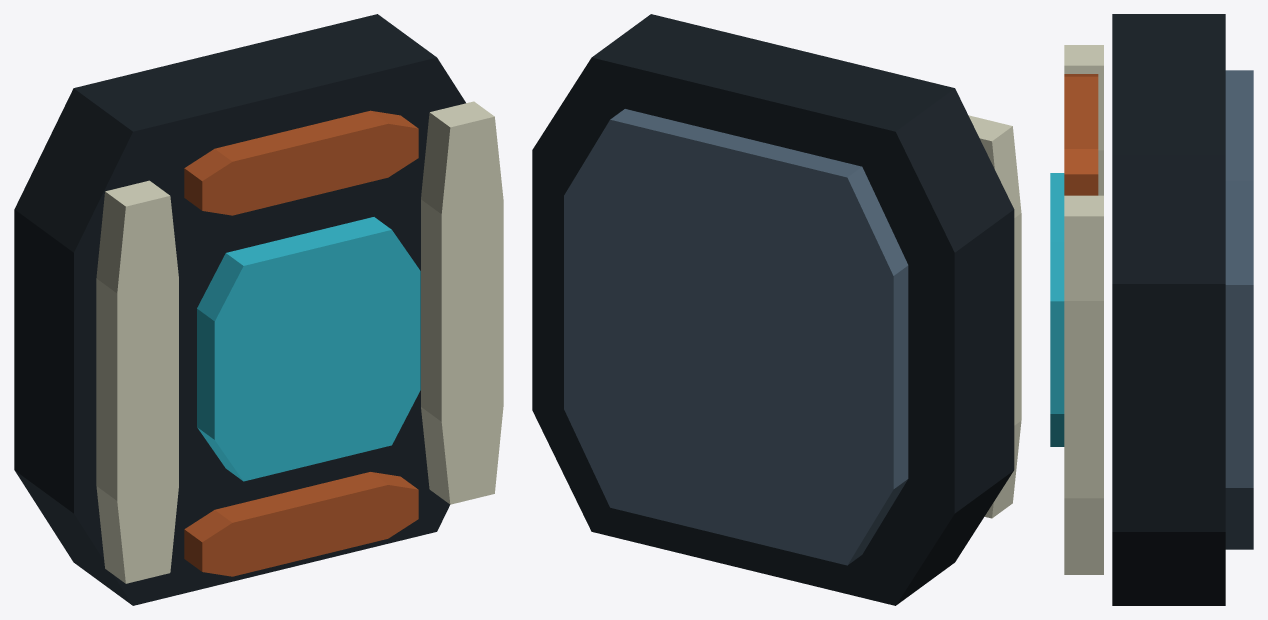
The model's file is BridgeEscapeClamp.obj.
3 views of the same model, side by side, from view 1: azimuth 30°, elevation 25°; view 2: azimuth 150°, elevation 25°; view 3: azimuth 270°, elevation 25° (orthographic). The views are drawn at different scales.
Parts seen in each view (by area): view 1: steel_back, ivory_grips, release_lens, amber_lock; view 2: release_housing, steel_back, ivory_grips; view 3: steel_back, ivory_grips, release_housing, amber_lock, release_lens.
Part boxes in pixels (<box>): steel_back: <box>14,14,465,605</box>; ivory_grips: <box>96,101,503,583</box>; release_lens: <box>197,217,420,481</box>; amber_lock: <box>184,110,418,576</box>; release_housing: <box>564,109,908,565</box>; steel_back: <box>532,14,1014,605</box>; ivory_grips: <box>968,115,1021,518</box>; steel_back: <box>1112,14,1225,605</box>; ivory_grips: <box>1064,45,1103,574</box>; release_housing: <box>1225,70,1253,549</box>; amber_lock: <box>1064,74,1098,195</box>; release_lens: <box>1050,173,1064,446</box>.
Size of the model in its own units: 1.64 by 1.76 by 0.72.
